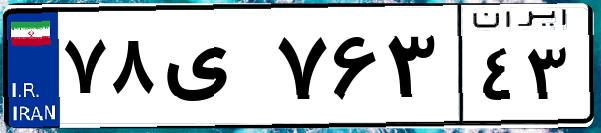3: (385, 28, 445, 110), (525, 38, 570, 115)
4: (475, 38, 525, 113)
6: (330, 28, 385, 110)
7: (270, 28, 330, 110), (57, 26, 110, 100)
8: (110, 28, 158, 98)
ی: (158, 20, 270, 120)
